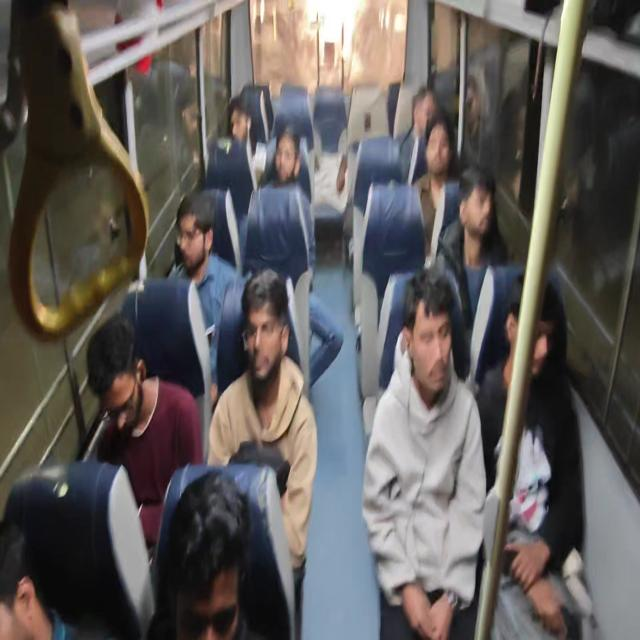person: (228, 272, 342, 426), (152, 483, 262, 637), (70, 311, 151, 447), (0, 444, 56, 640), (407, 272, 478, 424), (495, 266, 561, 392), (170, 215, 217, 282), (435, 122, 463, 198), (280, 128, 304, 199), (467, 184, 498, 234), (416, 81, 442, 136), (229, 98, 251, 146)
